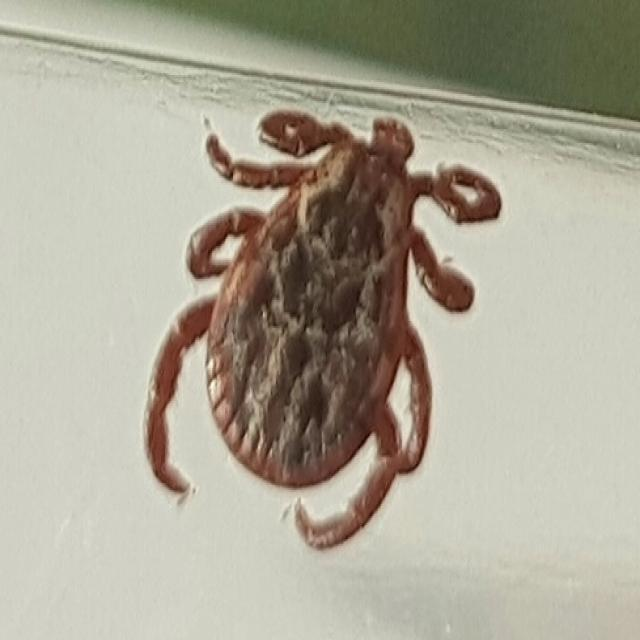Dermacentor Reticulatus-M: (141, 108, 504, 551)
